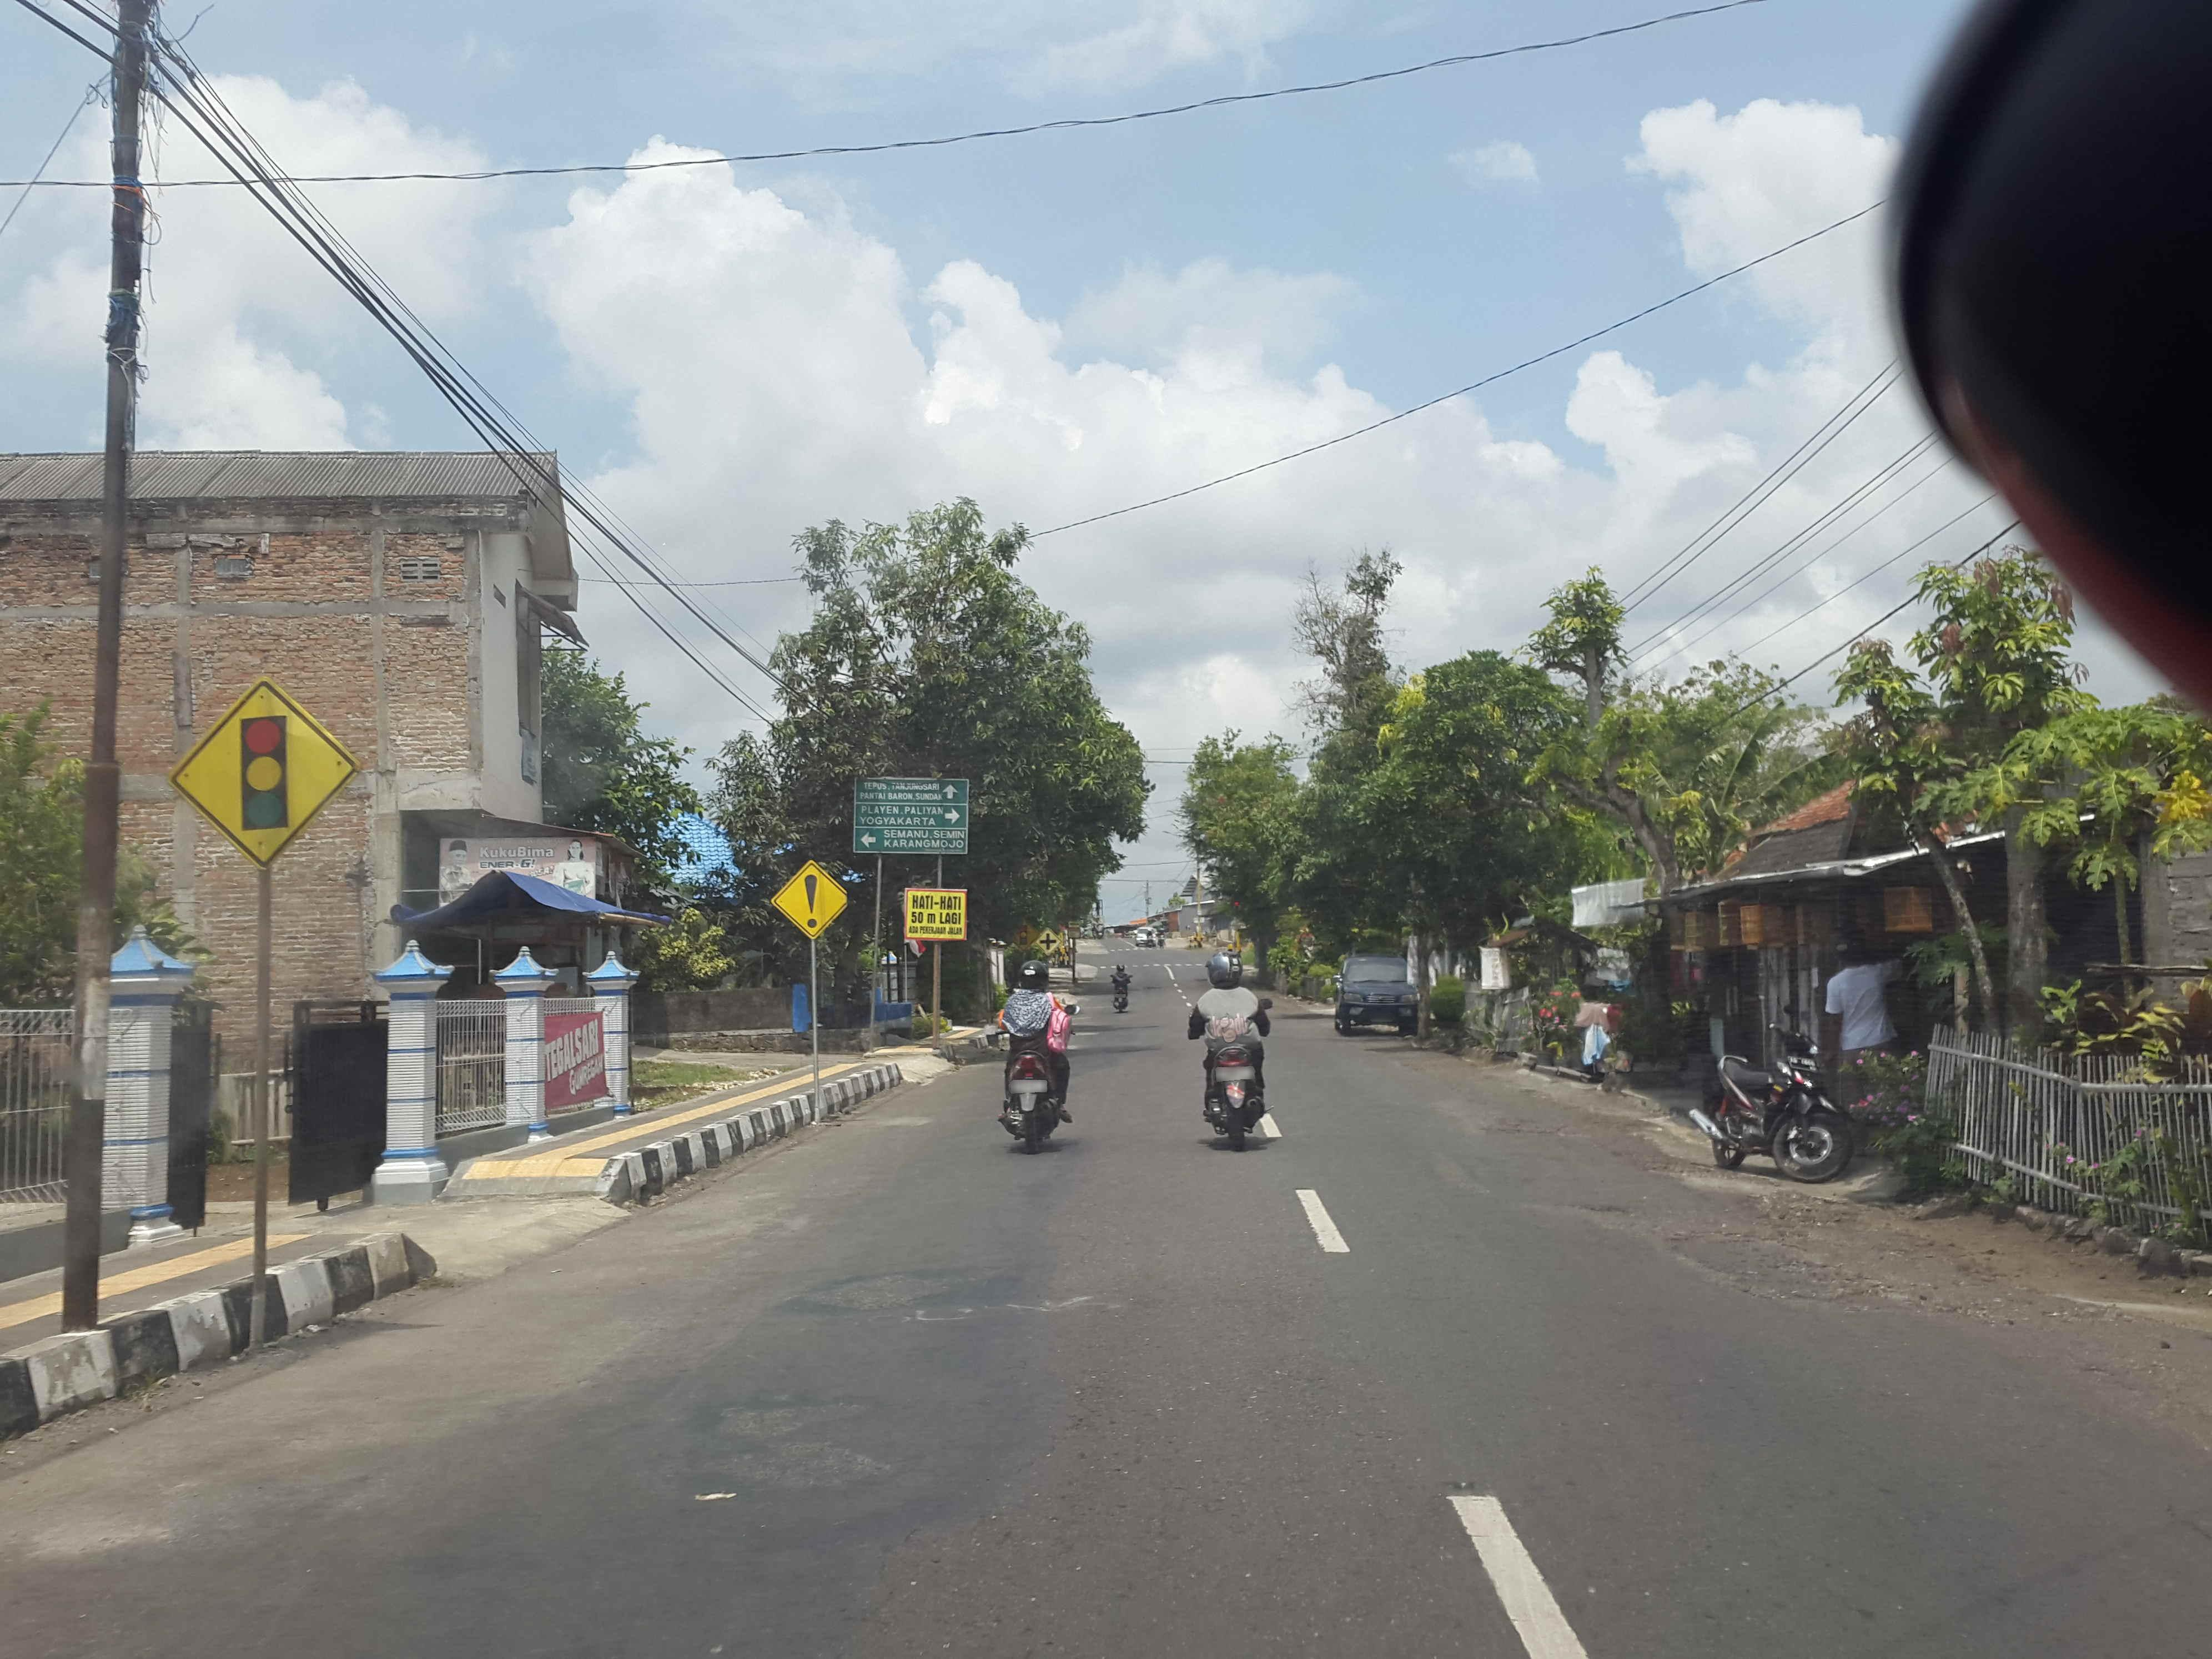vinyl banner: (425, 796, 620, 906), (519, 1004, 620, 1122)
